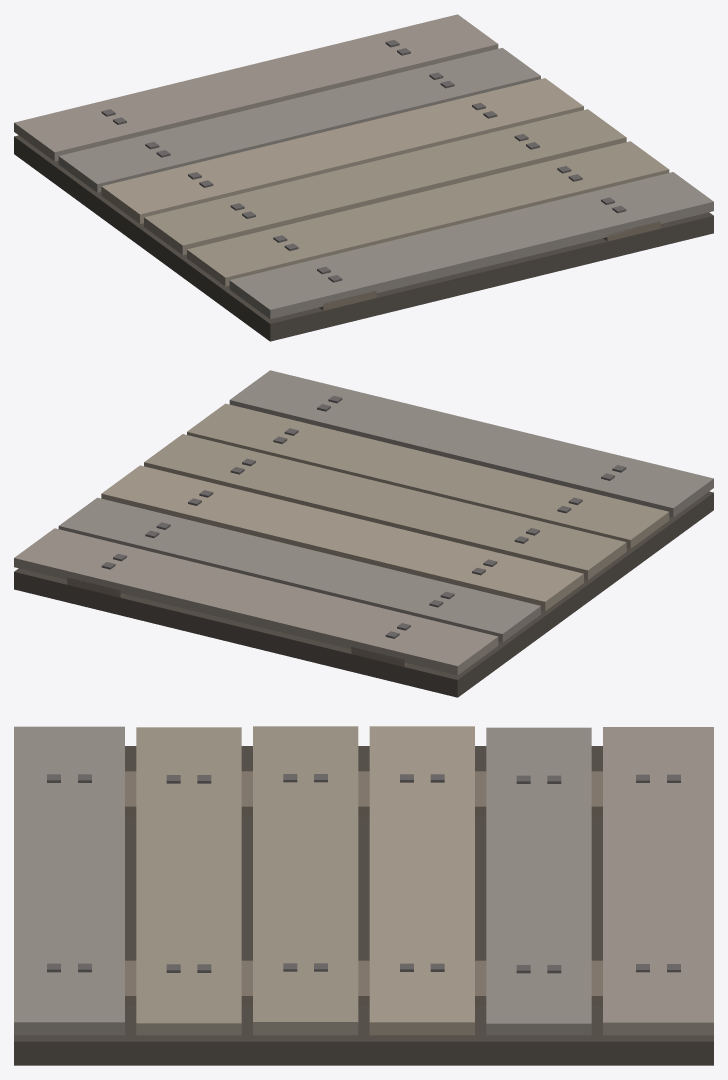
The model's file is boardwalk_lowpoly.glb.
The picture shows the model from 3 angles, top to bottom: view 1: azimuth 30°, elevation 25°; view 2: azimuth 150°, elevation 25°; view 3: azimuth 270°, elevation 25°; orthographic projection. The views are drawn at different scales.
Visible parts, largest first — view 1: BoardwalkTile; view 2: BoardwalkTile; view 3: BoardwalkTile.
Part boxes in pixels (box(x1,y1,x2,y2)): BoardwalkTile: box(14, 14, 713, 341); BoardwalkTile: box(14, 370, 713, 697); BoardwalkTile: box(14, 726, 713, 1065).
Bounding box in the file's own units: 1 × 0.0729 × 1.
